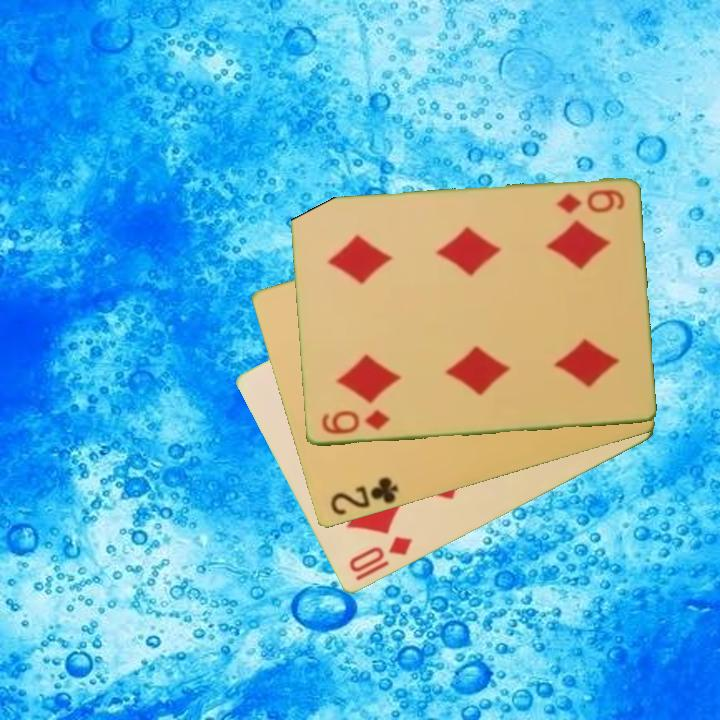10d: (345, 533, 416, 585)
2c: (326, 473, 401, 519)
6d: (317, 407, 393, 438), (552, 186, 627, 217)
